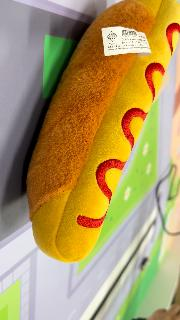hotdog: (26, 1, 178, 265)
